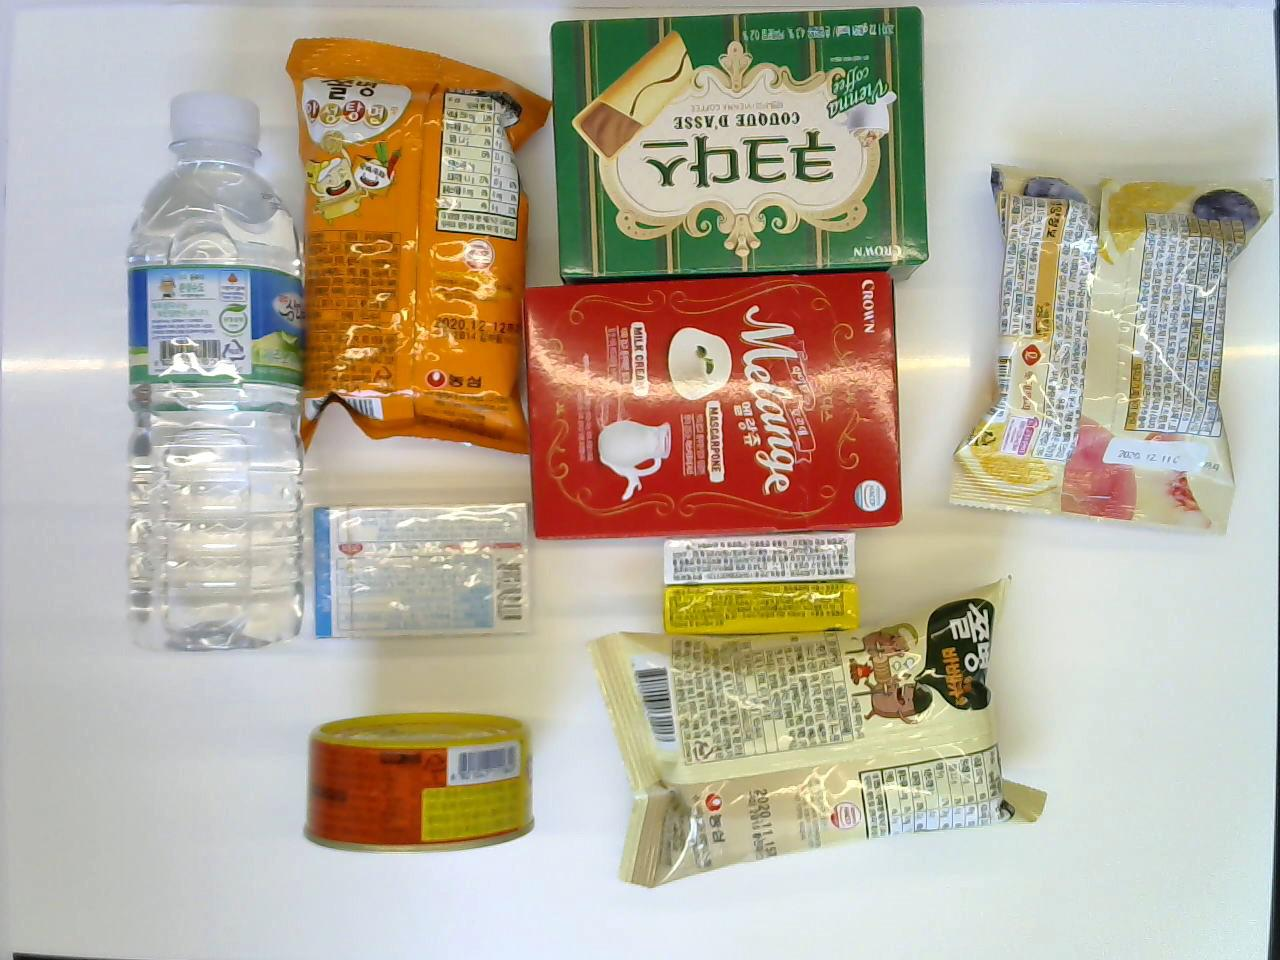ID_gum: (311, 498, 535, 641)
couque_coffee: (547, 1, 931, 285)
couque_white: (522, 268, 903, 541)
gumi_gumi: (946, 160, 1273, 533)
jjolbyung_noodle: (283, 36, 553, 457)
jjolbyung_ori: (581, 571, 1048, 890)
juicyfresh: (661, 575, 860, 634)
samdasu: (124, 89, 309, 652)
spearmint: (660, 530, 860, 584)
tuna: (302, 710, 539, 854)
